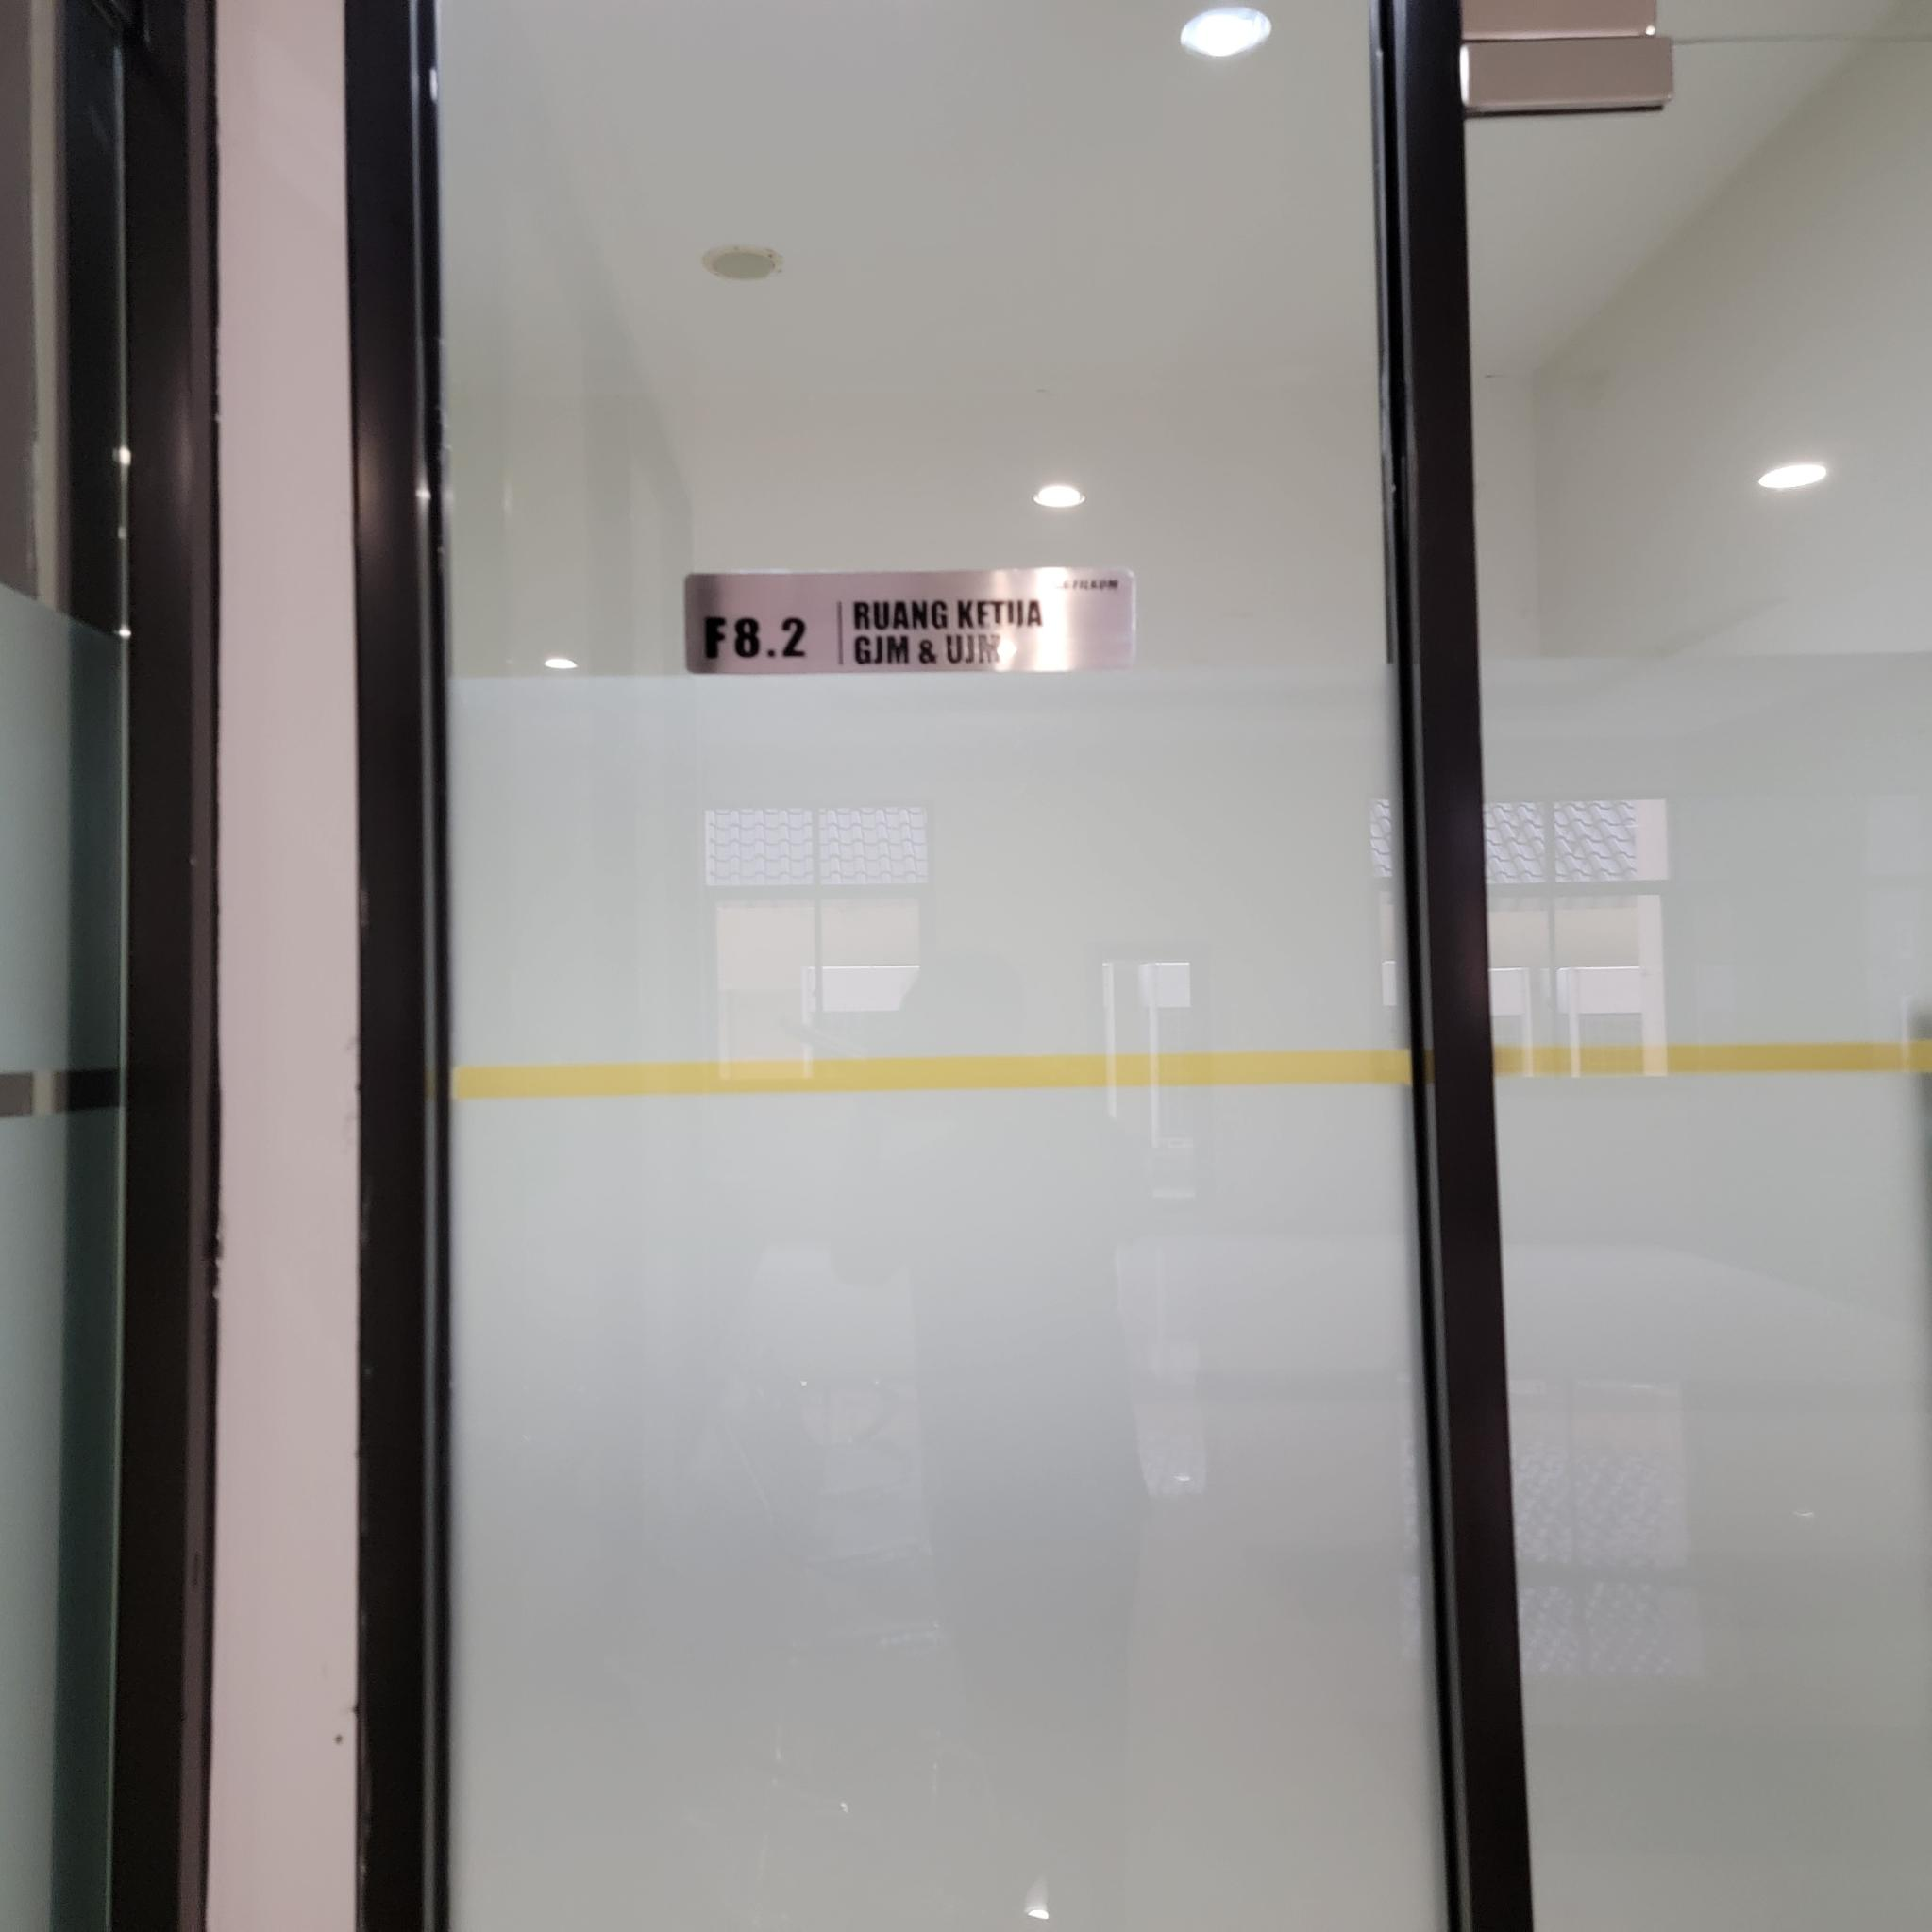plate: (685, 566, 1138, 679)
